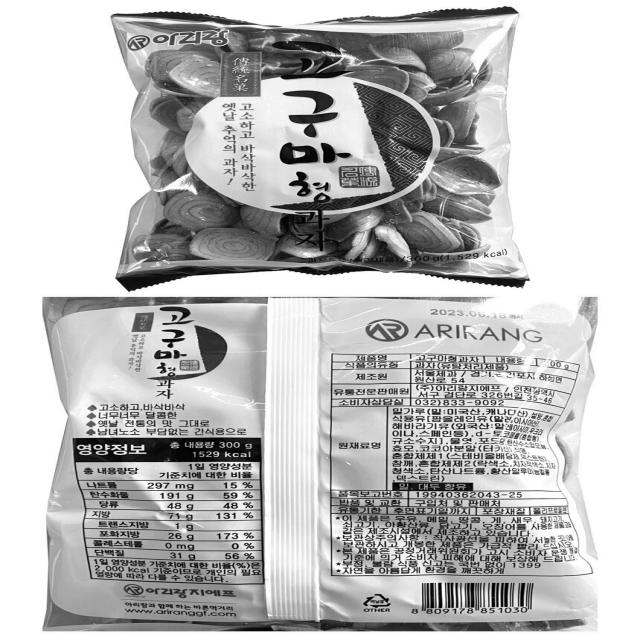Nutrition Label: (60, 430, 295, 592)
